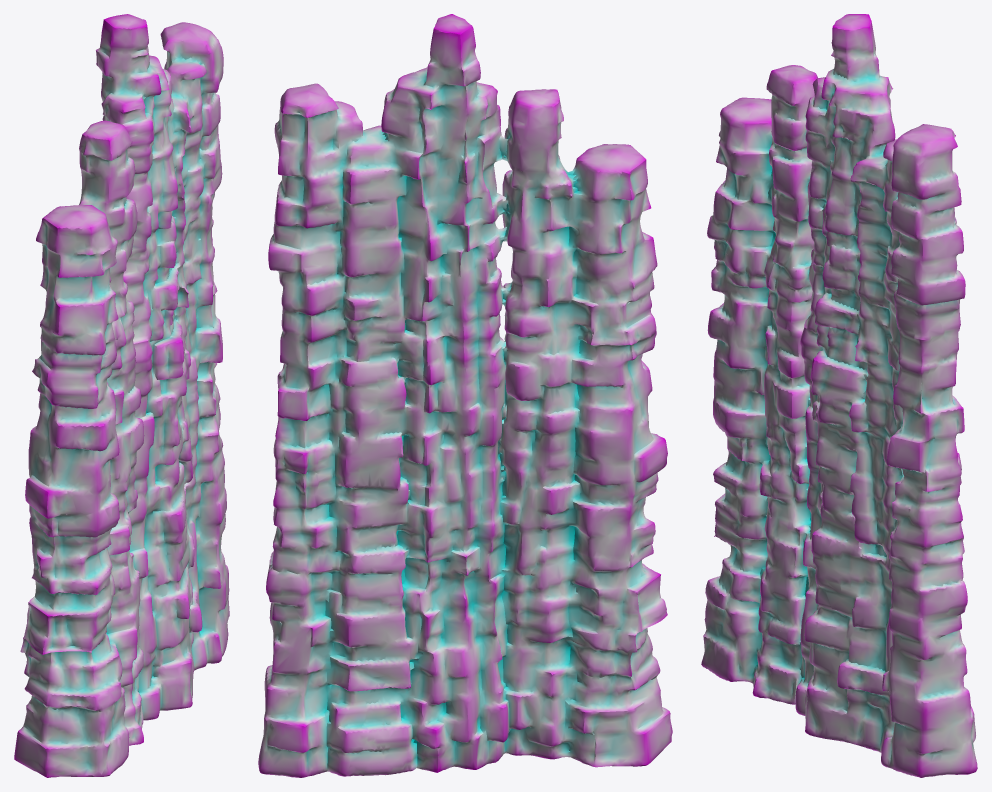
Rendered from Macico_6.fbx.
3 renders of one model, left to right at view 1: azimuth 30°, elevation 25°; view 2: azimuth 150°, elevation 25°; view 3: azimuth 270°, elevation 25°, orthographic. The views are drawn at different scales.
Parts seen in each view (by area): view 1: Macico_6; view 2: Macico_6; view 3: Macico_6.
Part boxes in pixels (box(x1,y1,x2,y2)): Macico_6: box(14, 14, 229, 777); Macico_6: box(258, 14, 672, 777); Macico_6: box(701, 14, 977, 777).
Size of the model in its own units: 160 by 367 by 132.
